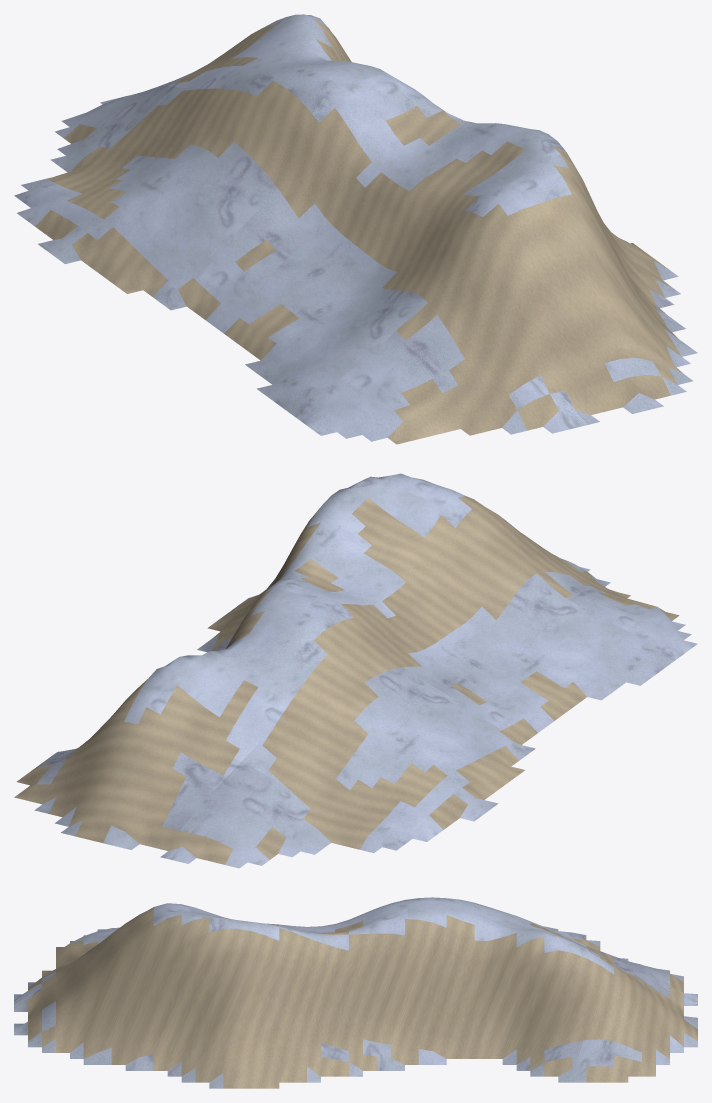
Rendered from border_dune_b_v5_winter.glb.
The picture shows the model from 3 angles, top to bottom: view 1: azimuth 30°, elevation 25°; view 2: azimuth 150°, elevation 25°; view 3: azimuth 270°, elevation 25°; orthographic projection. The views are drawn at different scales.
Parts seen in each view (by area): view 1: border_dune_b; view 2: border_dune_b; view 3: border_dune_b.
Boxes of the visible parts, x1=… form: border_dune_b: x1=14, y1=14, x2=697, y2=444; border_dune_b: x1=14, y1=473, x2=697, y2=868; border_dune_b: x1=14, y1=897, x2=697, y2=1088.
Size of the model in its own units: 0.5957 by 0.2078 by 1.04.
Materials: 2 (2 with a texture image).
